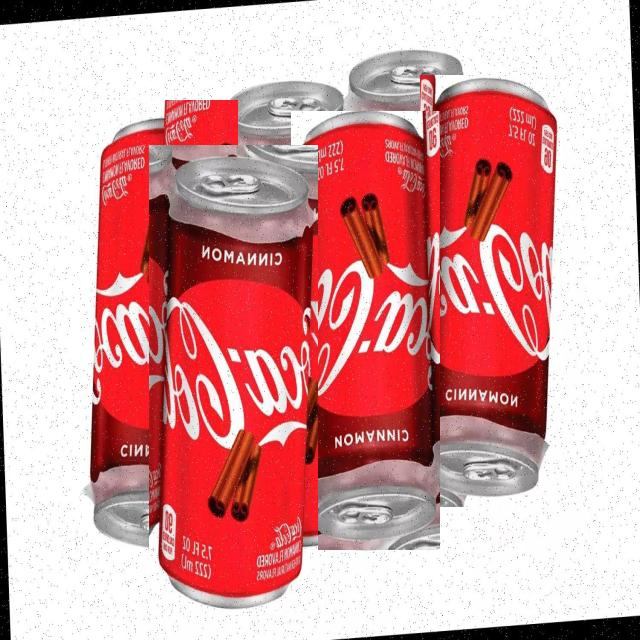coca-cola: (149, 145, 318, 611), (80, 100, 238, 565), (291, 111, 440, 550), (420, 75, 563, 507)
